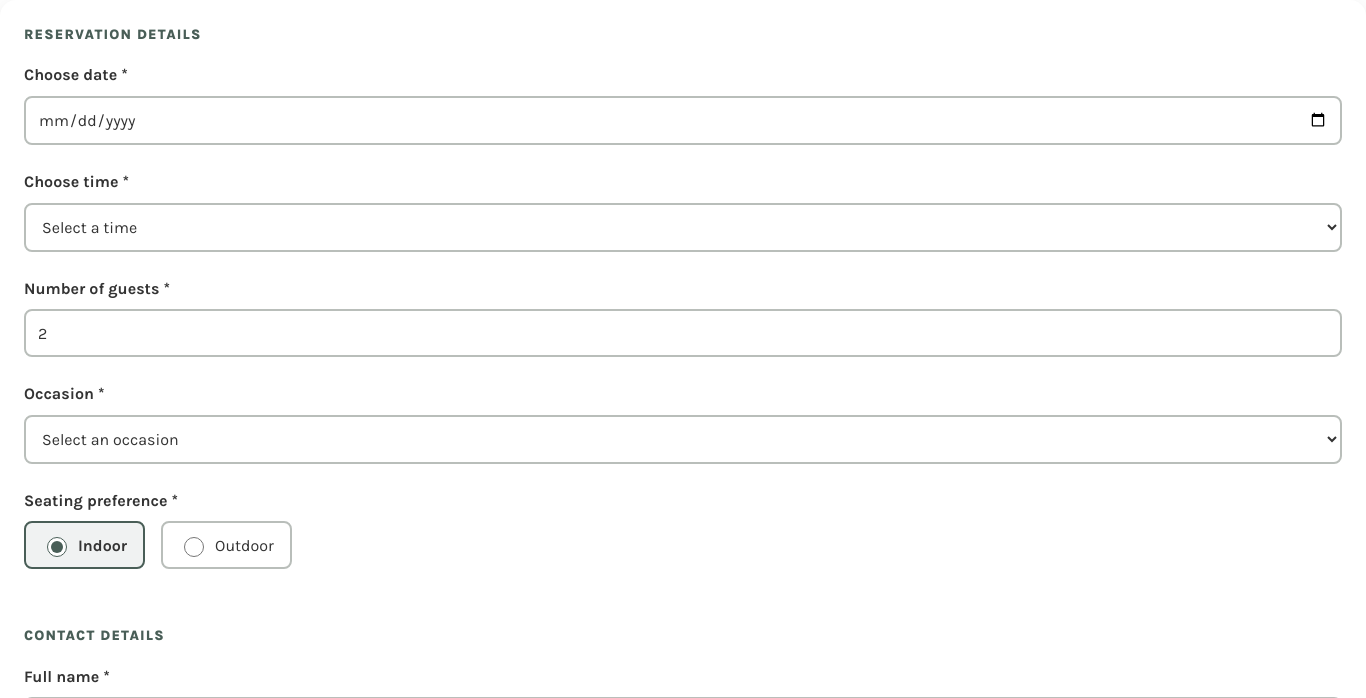
Scenario: BookingForm validation › rejects a party of zero
Step 1. Replace the text in the number field labelled "Number of guests *" with "0" → x=683, y=333, box [24, 309, 1342, 357]
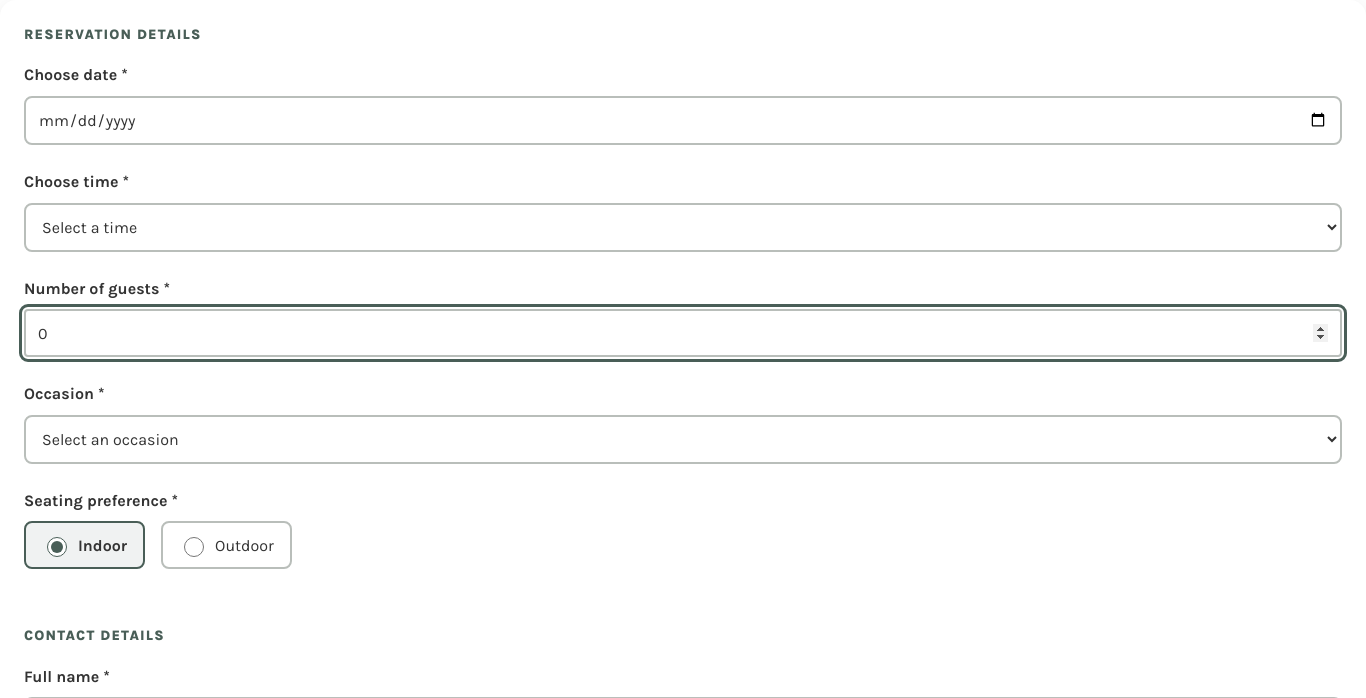
Step 2. Press Tab
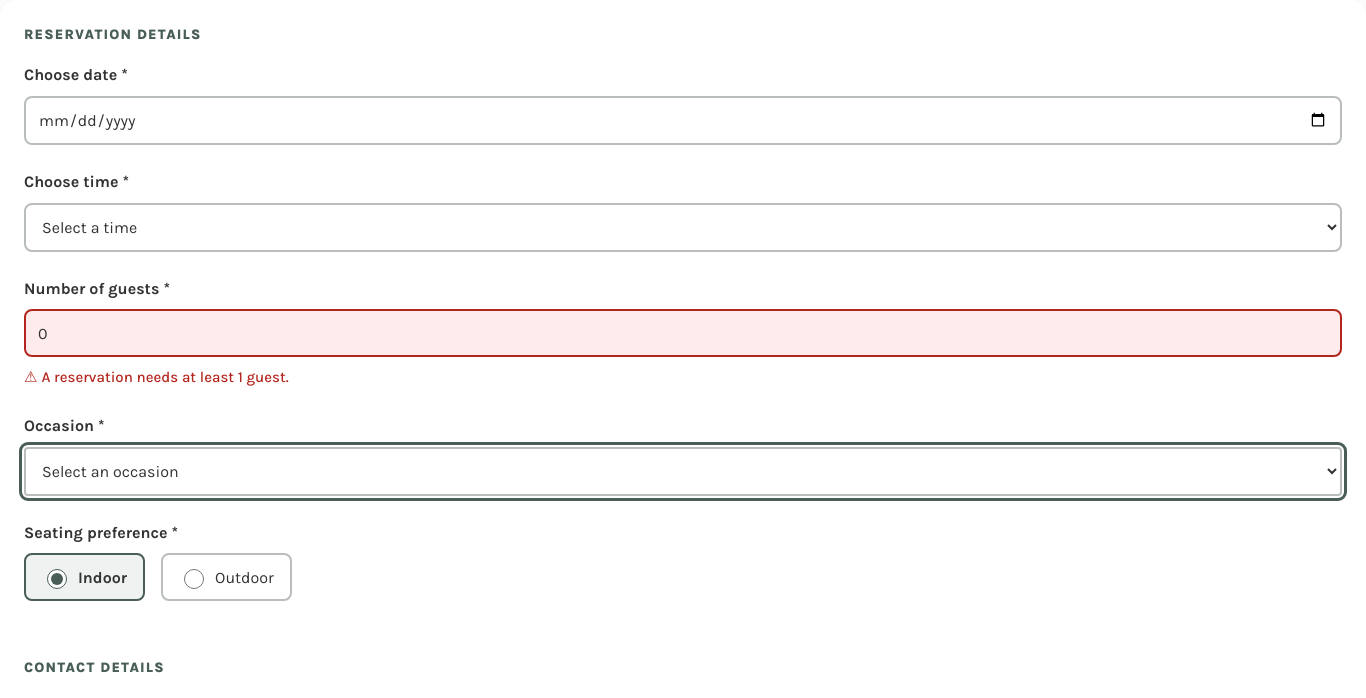
Now the text "⚠ A reservation needs at least 1 guest." is shown, box [24, 368, 289, 386]
